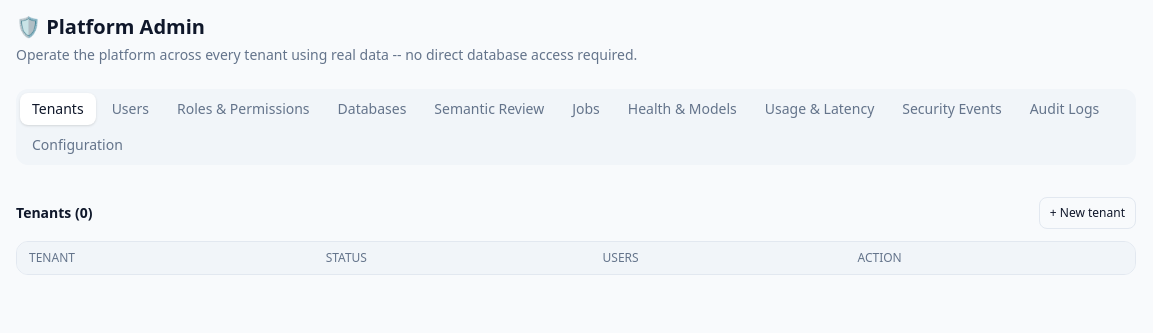
Scenario: PlatformAdmin › lists jobs across tenants
This screenshot has width=1153, height=333.
Click the tab "Jobs".
click(586, 109)  # box [560, 93, 612, 125]
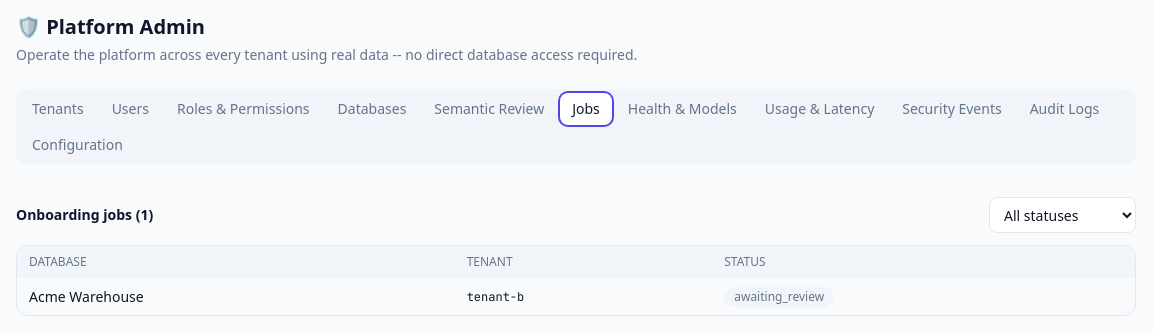
Now the text "Acme Warehouse" is shown, box [17, 278, 455, 315]
Now the text "tenant-b" is shown, box [455, 278, 712, 315]
